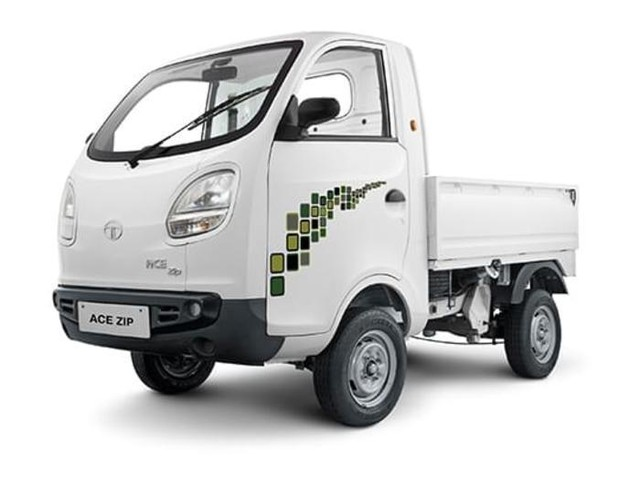Vehicle: (42, 27, 584, 427)
